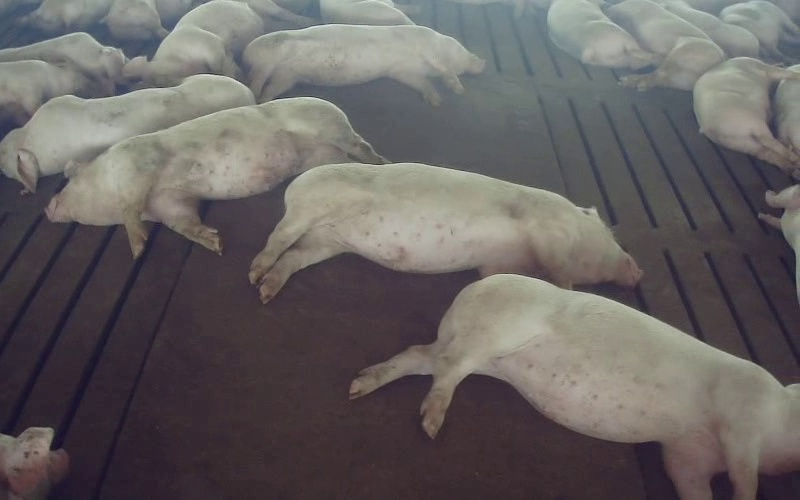pig: (350, 274, 799, 499), (46, 97, 384, 256), (0, 74, 254, 191), (242, 24, 484, 105), (123, 0, 315, 86), (693, 57, 799, 171), (606, 0, 724, 89), (0, 60, 112, 138), (547, 0, 659, 69), (0, 32, 125, 81)
